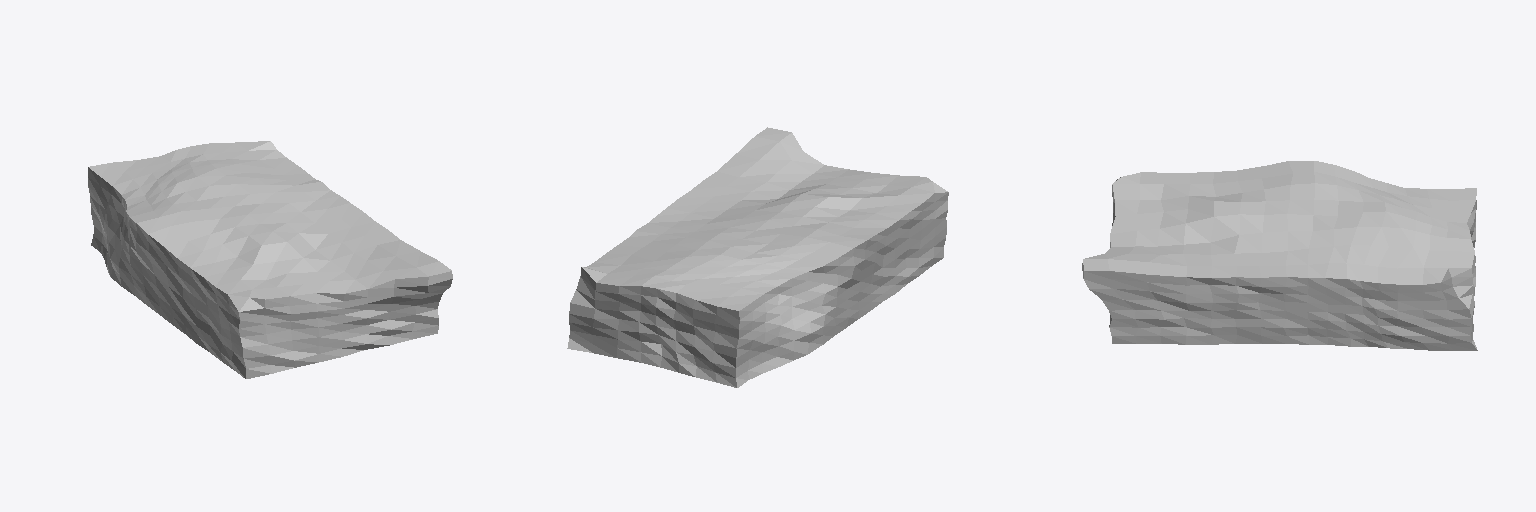
The model's file is PlateformeNT.obj.
3 views of the same model, side by side, from view 1: azimuth 30°, elevation 25°; view 2: azimuth 150°, elevation 25°; view 3: azimuth 270°, elevation 25° (orthographic).
Parts seen in each view (by area): view 1: Cube; view 2: Cube; view 3: Cube.
Boxes of the visible parts, <box> form: Cube: <box>88,141,452,378</box>; Cube: <box>567,127,948,387</box>; Cube: <box>1082,161,1477,350</box>.
Size of the model in its own units: 14.64 by 6.13 by 24.15.